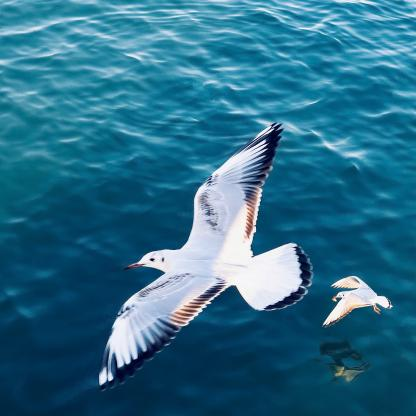bird: (94, 123, 314, 394), (323, 275, 393, 328)
